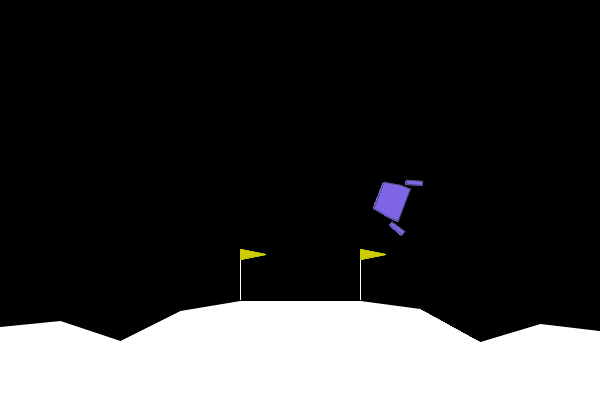lander: (366, 167, 425, 237)
